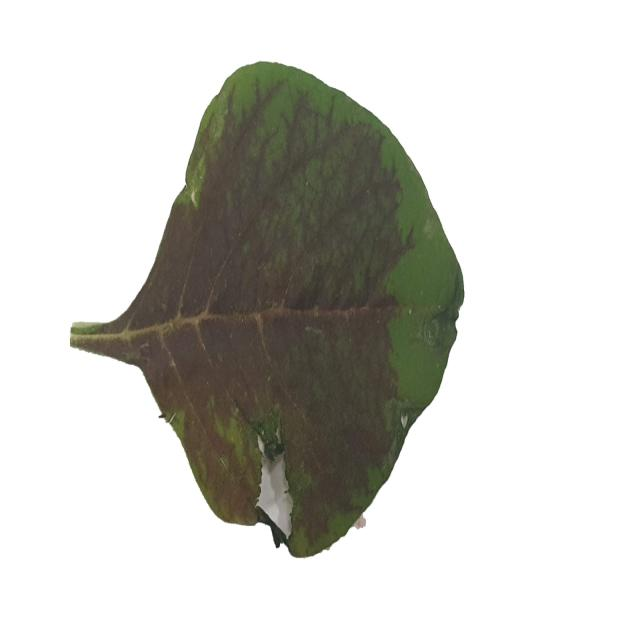Medicinal-Arive Dantu: (69, 63, 466, 554)
